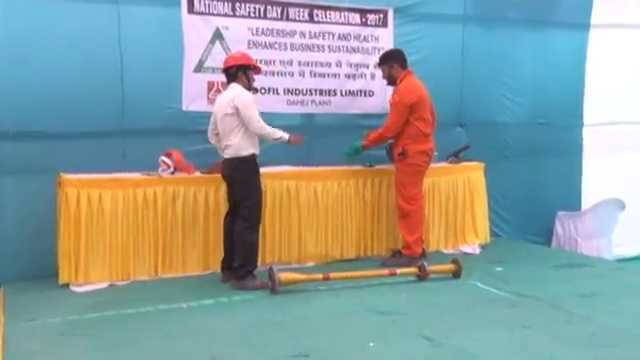helmet: (220, 50, 264, 75)
helmet_off: (376, 49, 408, 88)
helmet_on: (218, 50, 265, 92)
person: (204, 48, 301, 292), (354, 49, 435, 263)
